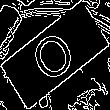O_SE: (27, 22, 83, 88)
